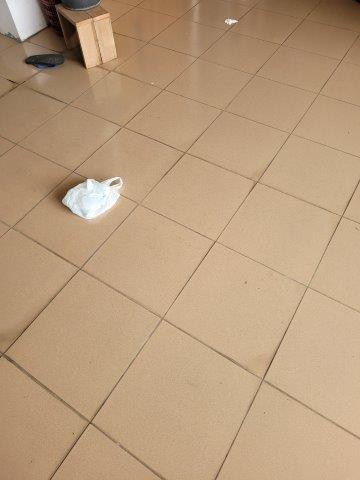plastik: (61, 177, 122, 220)
